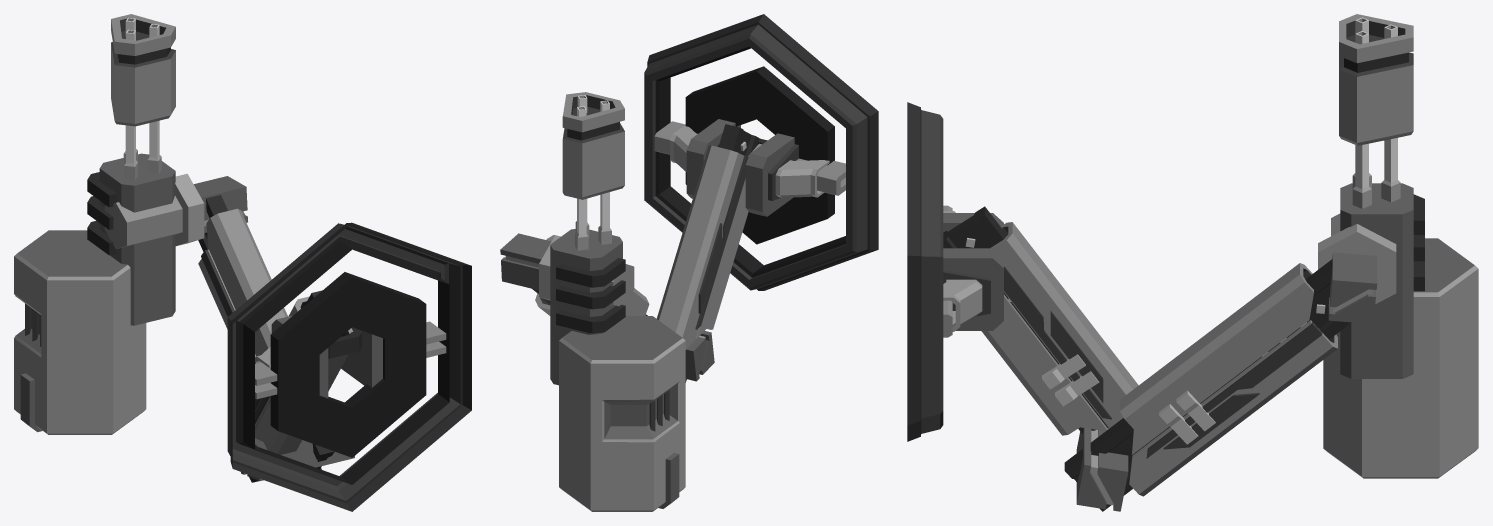
Rendered from turret.FBX.
The picture shows the model from 3 angles, left to right: view 1: azimuth 30°, elevation 25°; view 2: azimuth 150°, elevation 25°; view 3: azimuth 270°, elevation 25°; orthographic projection. The views are drawn at different scales.
Parts seen in each view (by area): view 1: turret; view 2: turret; view 3: turret.
Boxes of the visible parts, <box> form: turret: <box>14,14,471,511</box>; turret: <box>500,14,878,511</box>; turret: <box>907,14,1478,511</box>.
Bounding box in the file's own units: 29.4 × 45.69 × 51.71.
